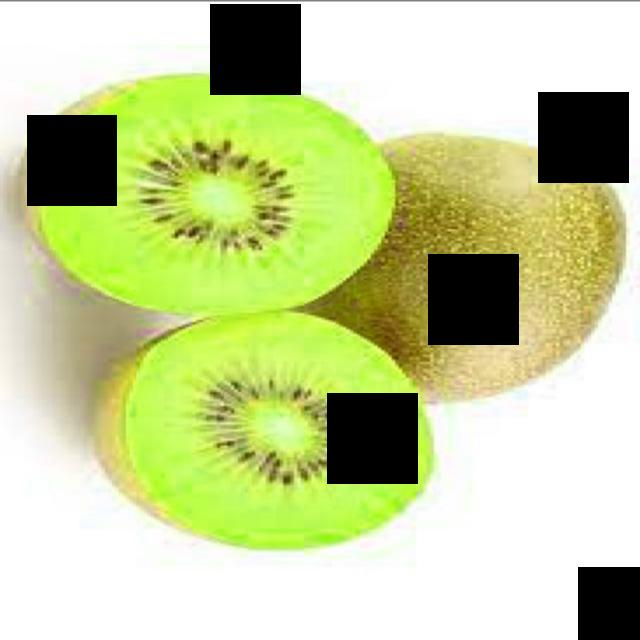kiwi: (323, 134, 635, 409)
